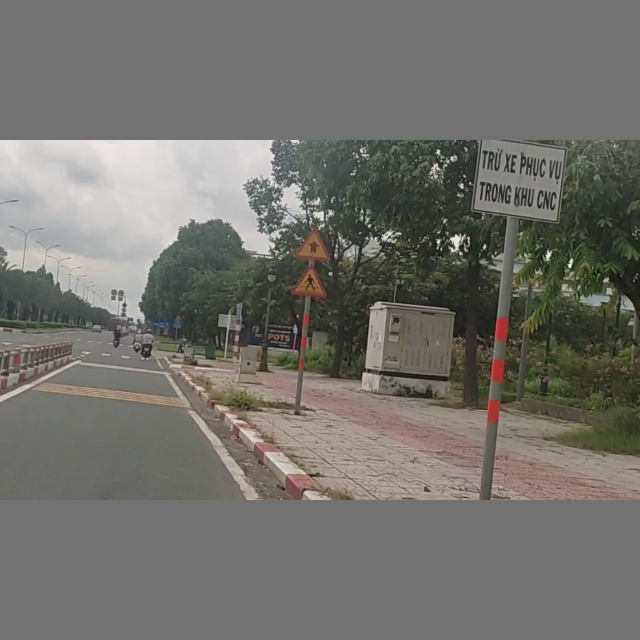W.207: (295, 227, 332, 262)
W.224: (286, 265, 326, 297)
